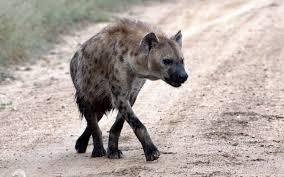hyenas: (63, 17, 184, 162)
